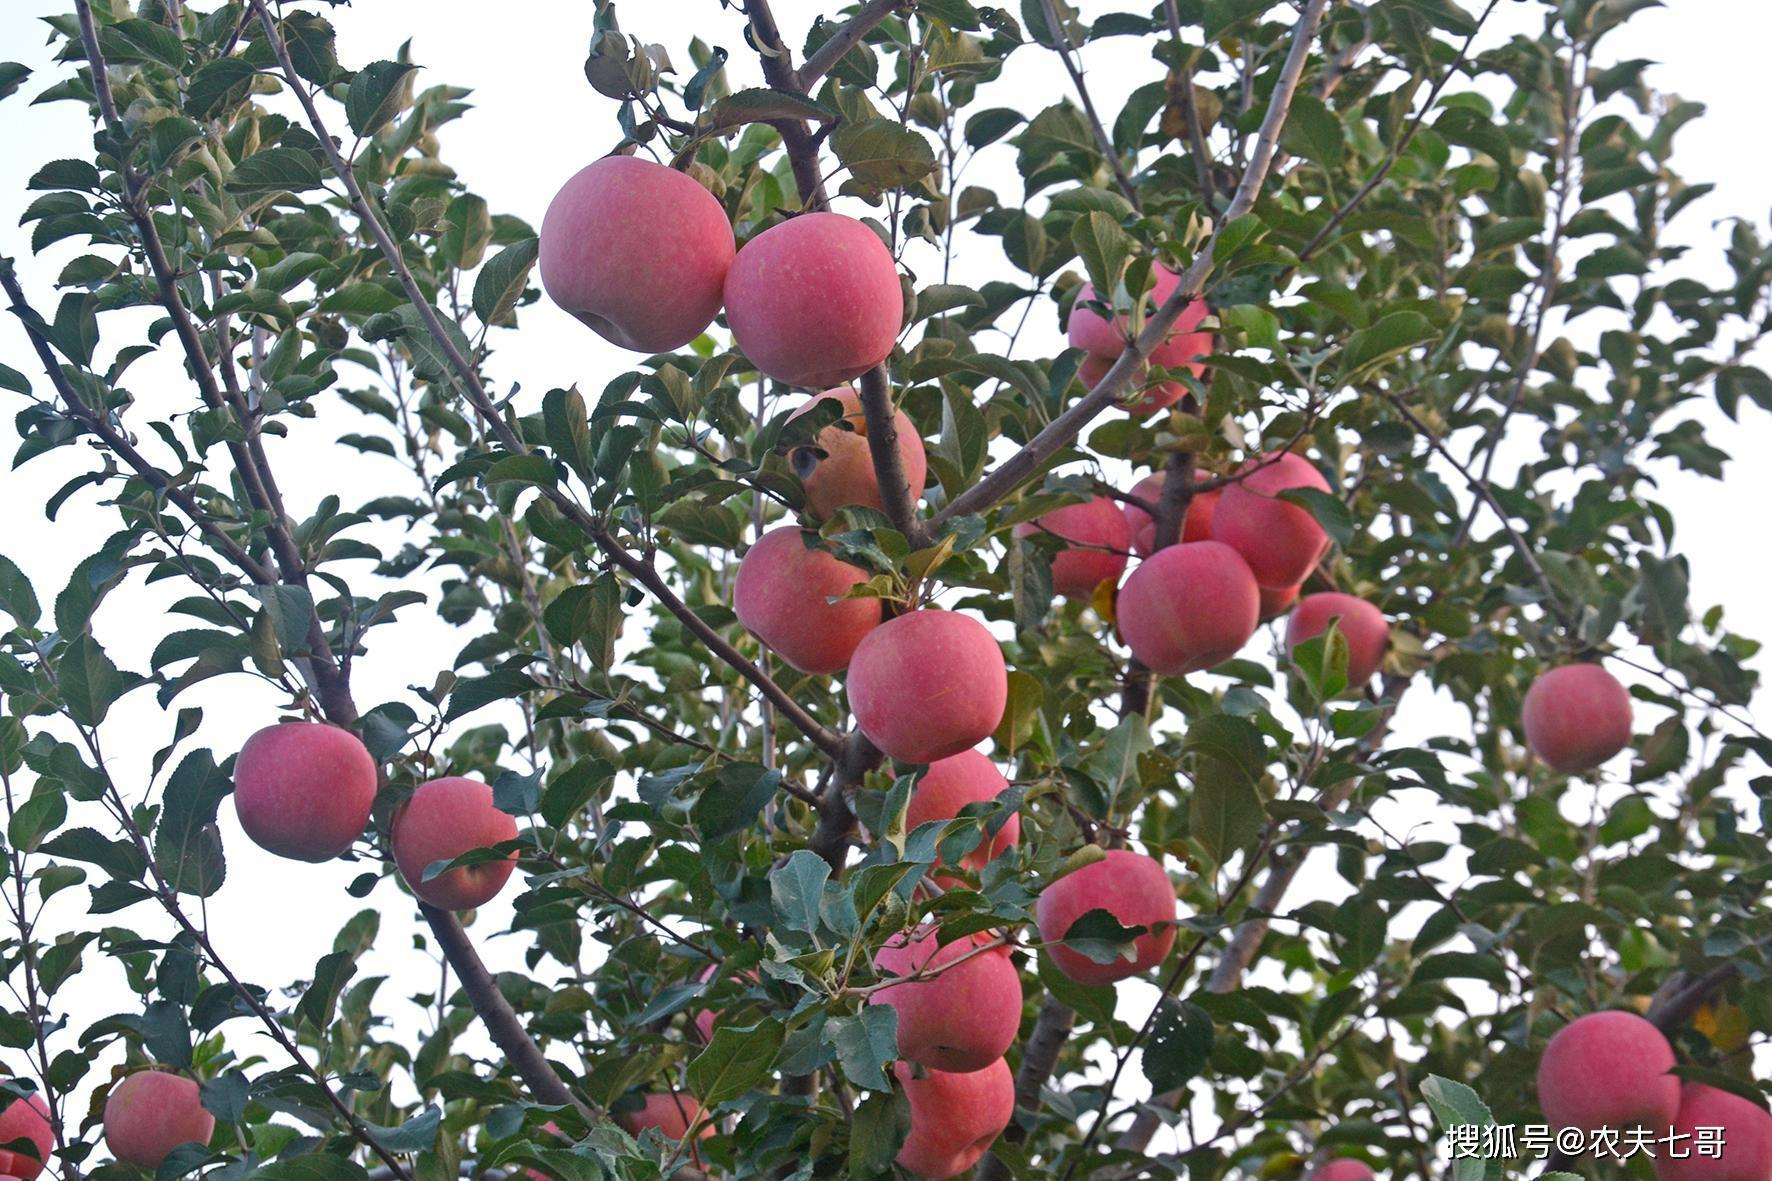apple: (539, 153, 736, 355), (721, 208, 906, 391), (730, 522, 900, 674), (850, 608, 1007, 770), (870, 923, 1024, 1074), (1033, 849, 1179, 993), (1537, 1010, 1682, 1151), (233, 718, 377, 859), (1115, 538, 1257, 674), (1186, 451, 1332, 581), (790, 401, 931, 531), (393, 775, 523, 912), (1075, 289, 1213, 413), (1016, 486, 1153, 608), (885, 1051, 1014, 1174), (1520, 660, 1632, 774), (1282, 590, 1389, 697), (101, 1068, 211, 1170), (1084, 573, 1119, 641)
